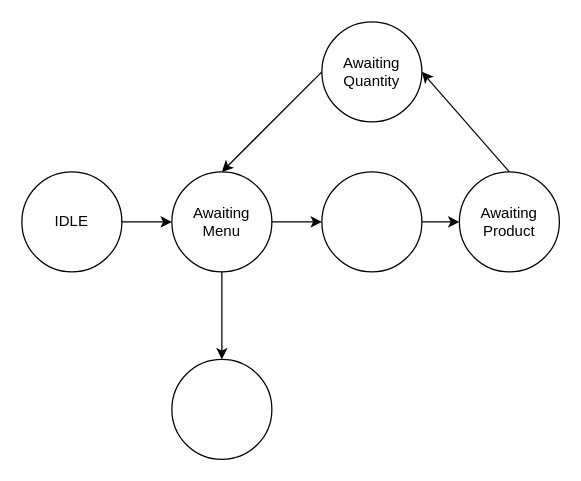
Image size: 581x481. Some labels were removed from this diagram. Each missing label, with the centre of its shape:
Awaiting Cart Confirmation: point 221,408
Awaiting Category: point 371,221
